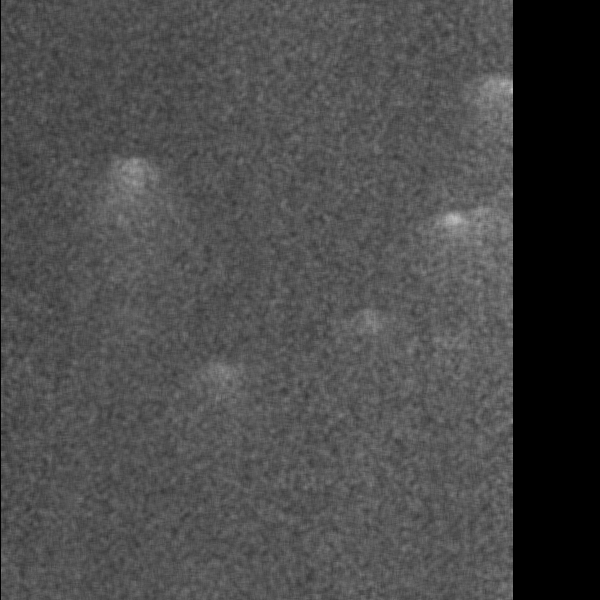spark: (116, 148, 150, 257), (425, 204, 479, 264), (329, 300, 405, 337), (200, 356, 232, 418), (491, 73, 514, 117)
